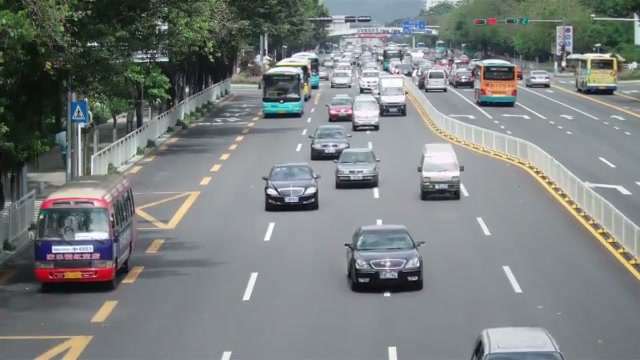bus: (33, 173, 137, 290), (472, 58, 519, 106), (261, 67, 304, 118), (568, 53, 618, 94), (274, 57, 312, 90), (289, 52, 320, 89)
car: (344, 223, 426, 292), (469, 326, 565, 360), (261, 162, 321, 211), (416, 141, 464, 201), (334, 147, 381, 188), (309, 125, 351, 161), (352, 93, 381, 131), (327, 94, 354, 122), (526, 71, 551, 88), (452, 68, 474, 87)
truck: (473, 58, 519, 106), (375, 75, 407, 116)
